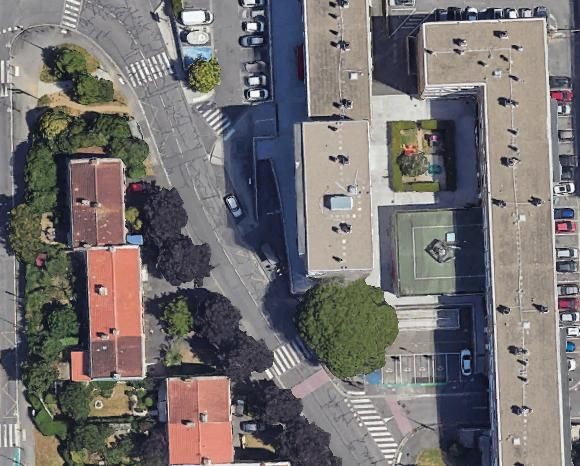immeuble: (415, 15, 573, 466), (294, 119, 372, 277), (302, 0, 370, 119)
maison: (71, 247, 145, 379), (167, 376, 233, 463), (69, 157, 123, 247)
